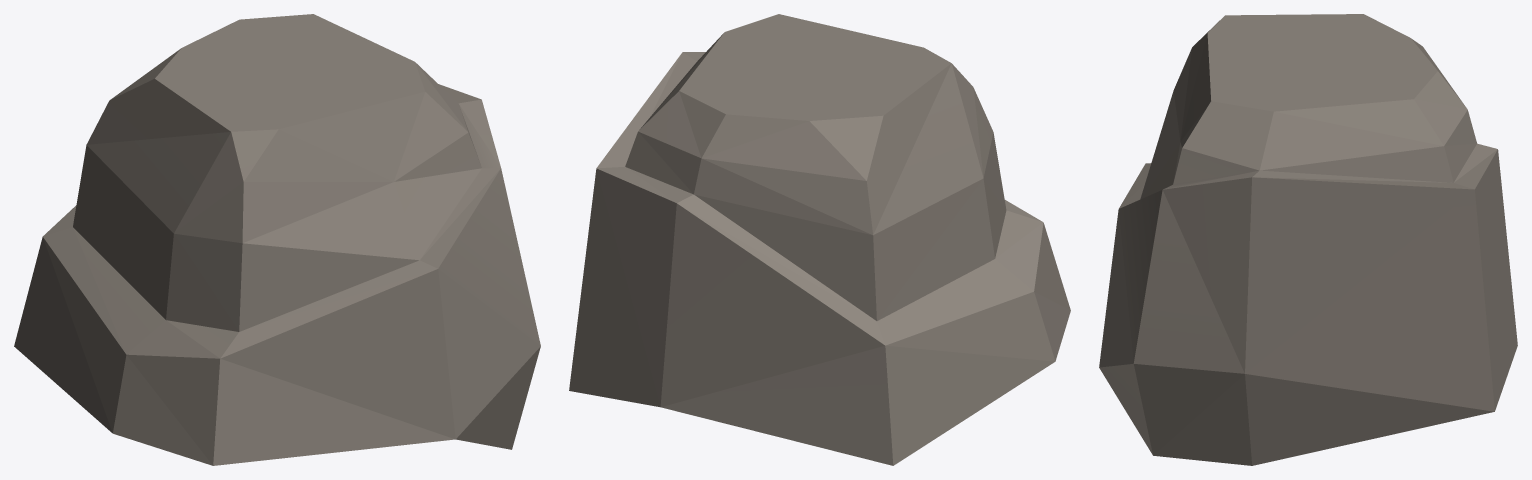
The model's file is Env_Rock03.FBX.
The picture shows the model from 3 angles, left to right: view 1: azimuth 30°, elevation 25°; view 2: azimuth 150°, elevation 25°; view 3: azimuth 270°, elevation 25°; orthographic projection. The views are drawn at different scales.
Visible parts, largest first — view 1: Env_Rock03; view 2: Env_Rock03; view 3: Env_Rock03.
Part boxes in pixels (<box>): Env_Rock03: <box>14,14,540,465</box>; Env_Rock03: <box>569,14,1070,465</box>; Env_Rock03: <box>1099,14,1517,465</box>.
Size of the model in its own units: 192 by 162 by 187.
Materials: 1 (1 with a texture image).
